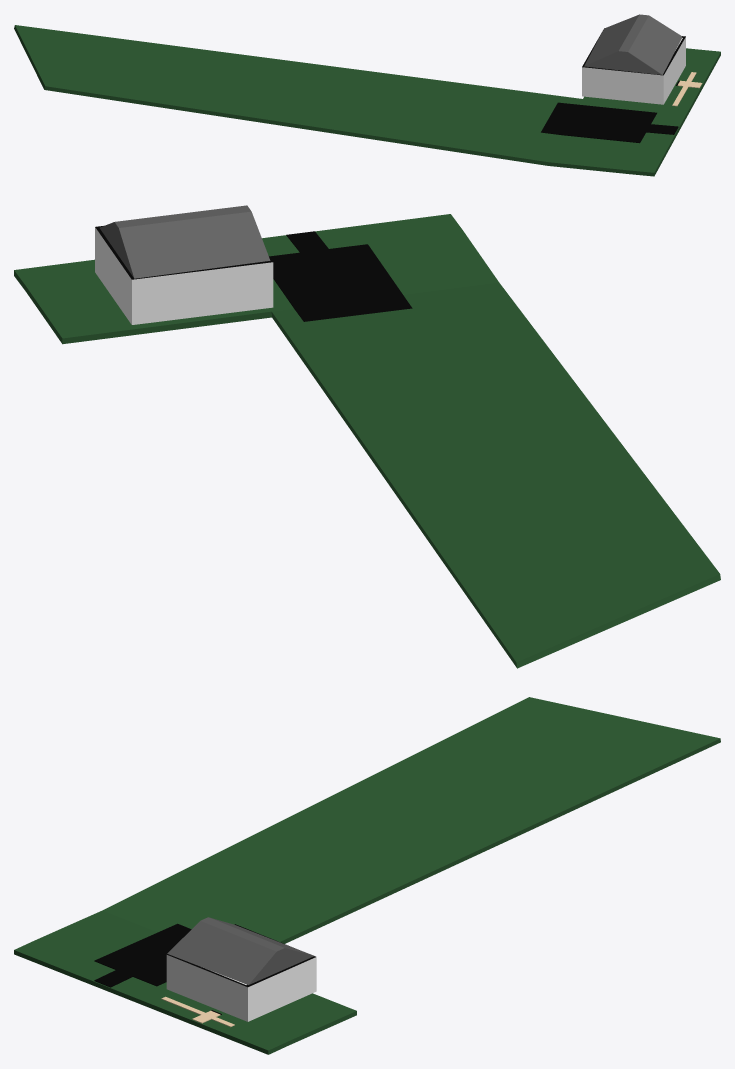
Rendered from capeclubhouse7.glb.
The picture shows the model from 3 angles, top to bottom: view 1: azimuth 30°, elevation 25°; view 2: azimuth 150°, elevation 25°; view 3: azimuth 270°, elevation 25°; orthographic projection. The views are drawn at different scales.
Visible parts, largest first — view 1: capeclubhouse; view 2: capeclubhouse; view 3: capeclubhouse.
Part boxes in pixels (x1,y1,x2,y2): capeclubhouse: [14, 14, 720, 176]; capeclubhouse: [14, 205, 720, 668]; capeclubhouse: [14, 697, 720, 1054].
Bounding box in the file's own units: 0.2885 × 0.0263 × 0.2636.
